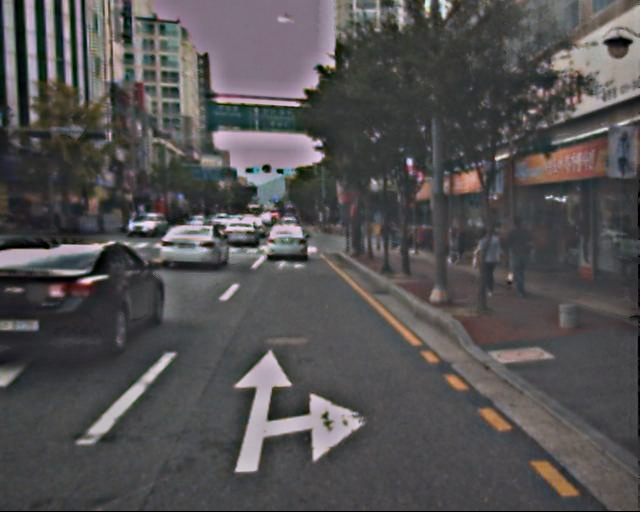person: (498, 216, 533, 301), (471, 225, 501, 299)
